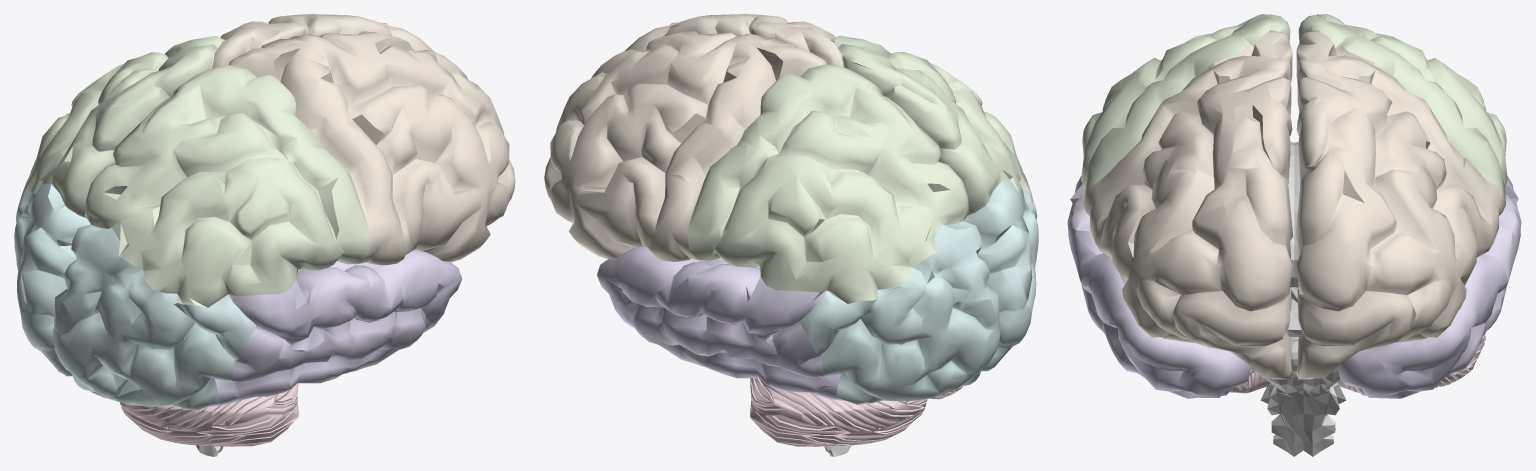
Rendered from brain.glb.
3 renders of one model, left to right at view 1: azimuth 30°, elevation 25°; view 2: azimuth 150°, elevation 25°; view 3: azimuth 270°, elevation 25°, orthographic. The views are drawn at different scales.
Visible parts, largest first — view 1: pariet, frontal, occipit, temp, cereb; view 2: pariet, frontal, occipit, temp, cereb; view 3: frontal, temp, pariet, stem, corpus, cereb.
Part boxes in pixels (bbox=[...]): pariet: bbox=[22, 36, 370, 307]; frontal: bbox=[212, 14, 515, 265]; occipit: bbox=[14, 183, 256, 409]; temp: bbox=[205, 250, 462, 407]; cereb: bbox=[90, 383, 298, 446]; pariet: bbox=[687, 35, 1030, 303]; frontal: bbox=[544, 14, 843, 261]; occipit: bbox=[799, 181, 1038, 404]; temp: bbox=[597, 246, 846, 401]; cereb: bbox=[750, 378, 963, 446]; frontal: bbox=[1083, 30, 1505, 379]; temp: bbox=[1067, 176, 1521, 398]; pariet: bbox=[1081, 14, 1507, 203]; stem: bbox=[1251, 287, 1346, 456]; corpus: bbox=[1288, 142, 1300, 287]; cereb: bbox=[1230, 332, 1485, 393].
Bounding box in the file's own units: 48.94 × 42.81 × 40.22.
